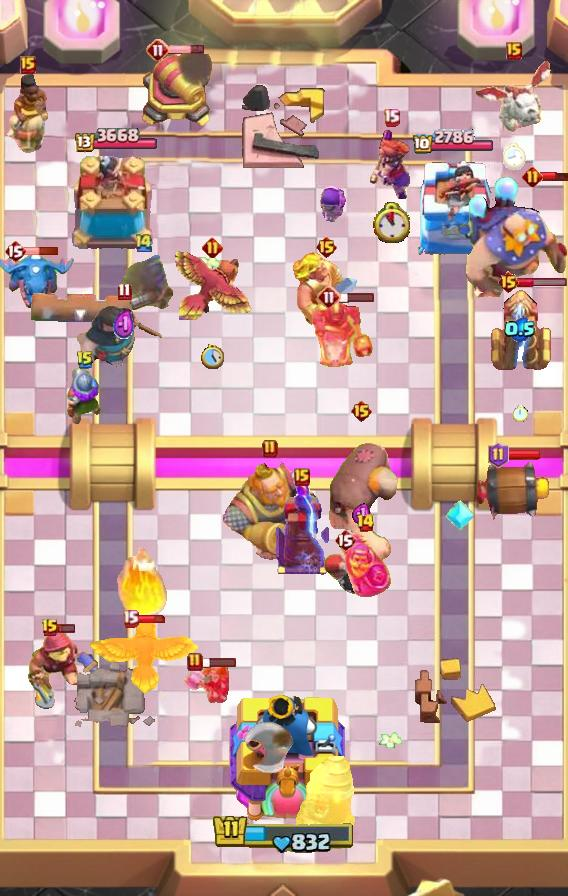balloon: (323, 427, 399, 567)
bomb-tower: (113, 254, 175, 318), (66, 364, 104, 426)
clock: (212, 813, 356, 855)
electro-spirit: (504, 318, 536, 343), (113, 308, 135, 342), (352, 502, 370, 524)
elite-barbarian: (5, 73, 51, 153)
elixir: (374, 202, 411, 243), (502, 143, 526, 171), (200, 343, 223, 368), (513, 406, 527, 423)
emote: (516, 276, 567, 287), (339, 291, 375, 303), (506, 449, 542, 461), (201, 656, 237, 668), (168, 45, 205, 56), (25, 246, 60, 256), (136, 614, 168, 624), (540, 171, 568, 182), (56, 623, 75, 634)
fireball: (26, 630, 100, 711)
firecracker-evolution: (339, 531, 392, 596)
freeze: (310, 302, 374, 370)
giant-skeleton: (216, 460, 324, 564)
goblin: (318, 186, 346, 224)
goblin-brawler: (486, 287, 554, 373)
goblin-hut: (290, 250, 362, 330)
golden-knight: (89, 621, 199, 697), (171, 248, 253, 320)
graveyard: (0, 247, 78, 311)
hog-rider: (182, 659, 230, 705)
ice-golem: (323, 553, 367, 595)
ice-spirit-evolution-symbol: (272, 480, 332, 576)
king-tower: (223, 689, 345, 826)
little-prince: (456, 175, 568, 299)
magic-archer: (296, 755, 356, 847)
mini-pekka: (474, 55, 554, 133)
minion: (28, 293, 136, 323)
pad_2: (446, 498, 474, 532)
queen-tower: (68, 156, 160, 256), (407, 158, 499, 256)
royal-giant: (241, 721, 297, 775)
royal-hog: (77, 302, 171, 370)
royal-recruit: (137, 54, 215, 130)
selected: (71, 128, 156, 155), (413, 128, 496, 155)
tesla-evolution: (369, 126, 413, 202)
text: (146, 38, 170, 62), (317, 285, 341, 309), (315, 235, 338, 259), (496, 270, 519, 294), (351, 399, 374, 423), (488, 442, 509, 468), (4, 239, 26, 263), (334, 528, 356, 552), (522, 166, 543, 187), (201, 238, 222, 259), (134, 231, 154, 252), (356, 513, 375, 533), (76, 350, 94, 370), (41, 618, 59, 638), (383, 108, 401, 127), (262, 439, 278, 459), (187, 652, 203, 672), (121, 609, 138, 627), (506, 42, 522, 60), (20, 56, 36, 74), (294, 468, 310, 486), (117, 283, 131, 301)
the-log: (473, 460, 553, 520)
valkyrie: (110, 533, 170, 623)
